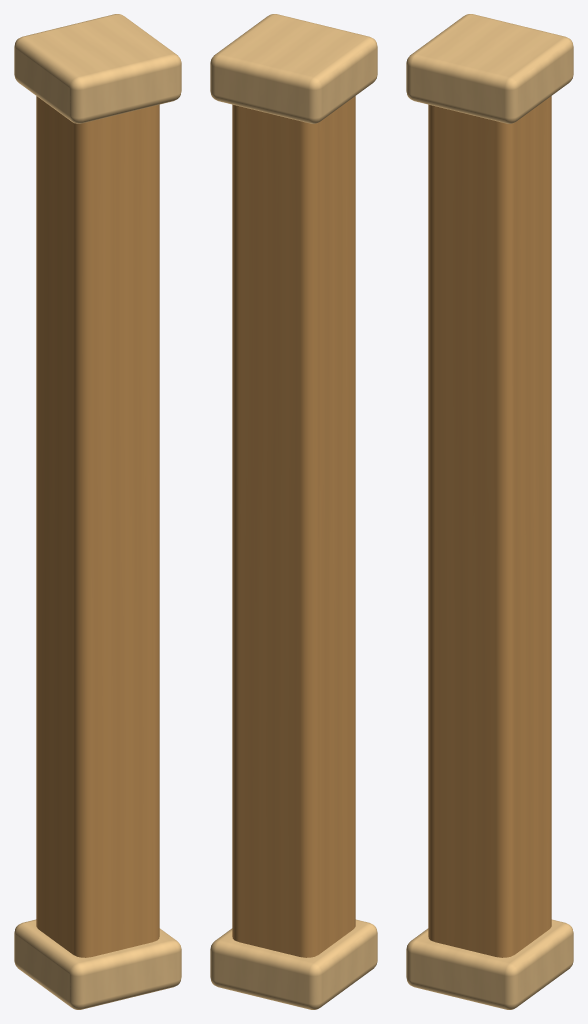
The model's file is Corner_Post.glb.
3 renders of one model, left to right at view 1: azimuth 30°, elevation 25°; view 2: azimuth 150°, elevation 25°; view 3: azimuth 330°, elevation 25°, orthographic.
Parts seen in each view (by area): view 1: Corner_Post; view 2: Corner_Post; view 3: Corner_Post.
Boxes of the visible parts, x1,y1,x2,y2 form: Corner_Post: (14,14,181,1009); Corner_Post: (210,14,377,1009); Corner_Post: (406,14,573,1009).
Bounding box in the file's own units: 0.25 × 2.02 × 0.25.
Materials: 2 (2 with a texture image).
